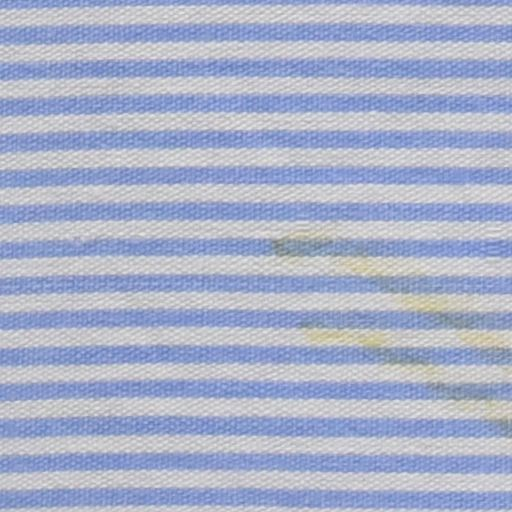defect: (485, 318, 512, 386)
